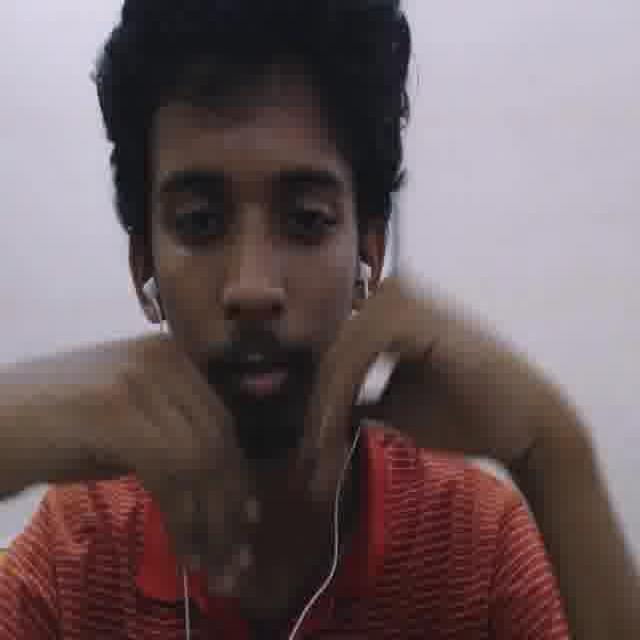Frustration: (135, 81, 362, 460)
